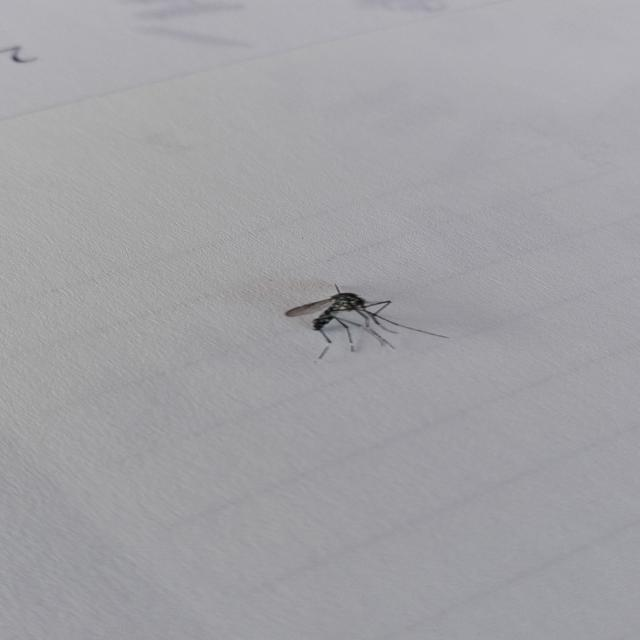albopictus: (281, 277, 443, 360)
